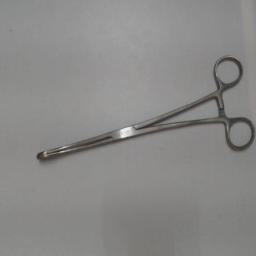Sponge Forceps: (30, 52, 254, 168)
